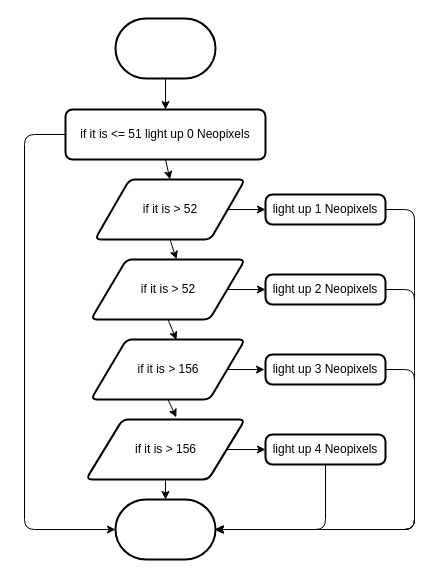
Image size: 440x577. Some labels were removed from this diagram. The centre of each missing label's shape, as x and y in pixels:
"Start" goes at pixel 165 48.
"Stop" goes at pixel 165 529.
